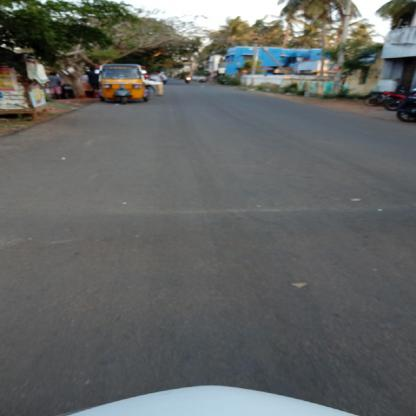speed-bumps: (0, 195, 415, 251)
